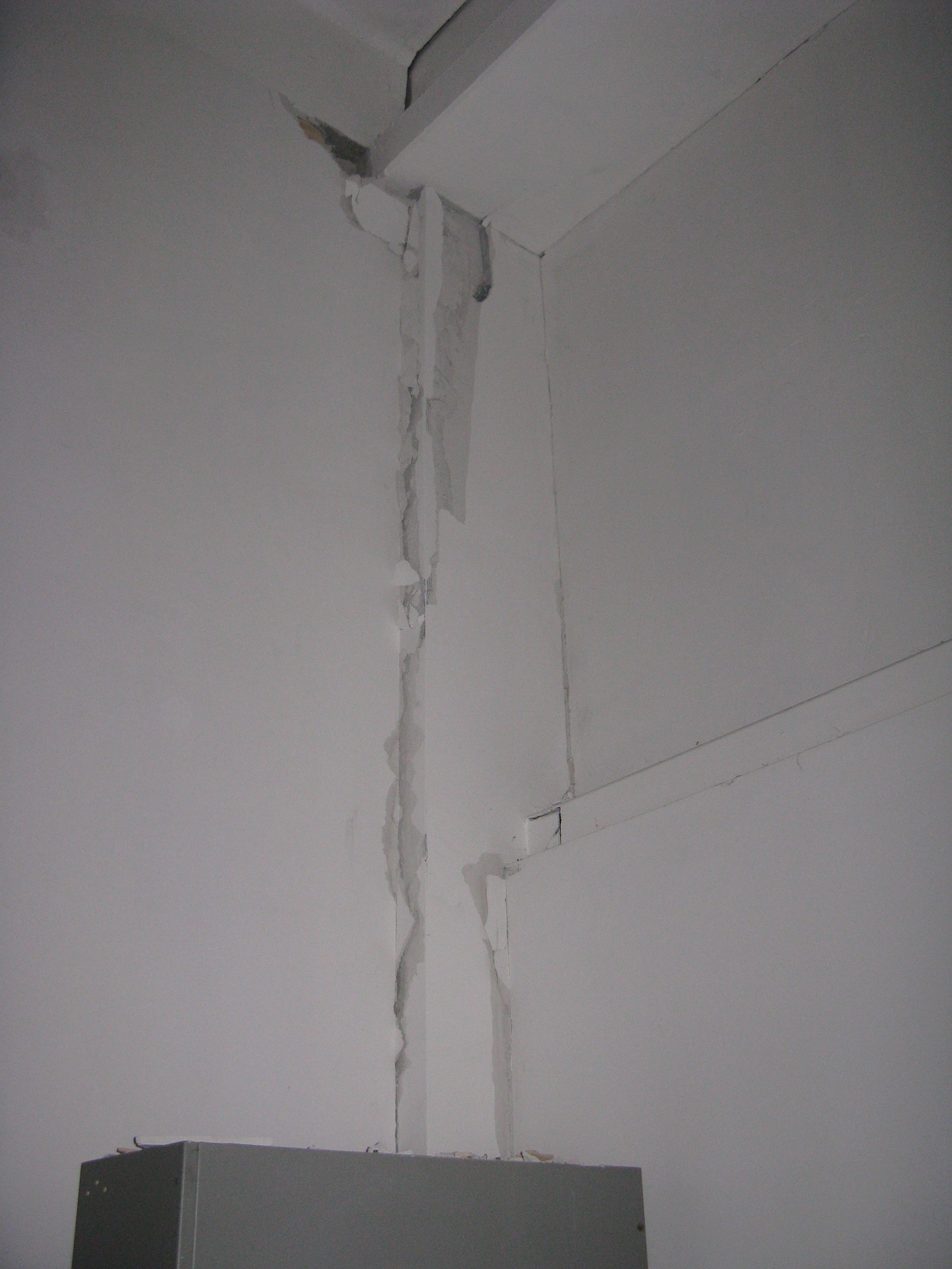Crack: (263, 84, 429, 288), (390, 485, 413, 1149)
Debris: (100, 1134, 608, 1167)
Spalling: (432, 191, 499, 530), (315, 123, 368, 176)
